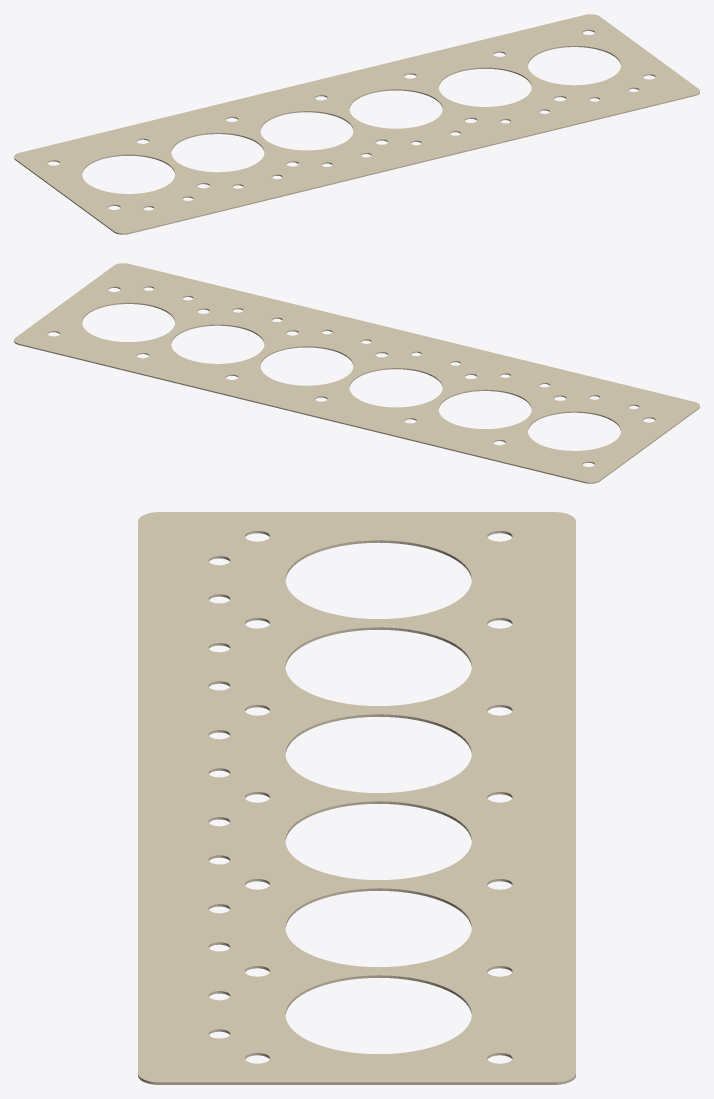
The model's file is head-gasket.glb.
3 renders of one model, top to bottom at view 1: azimuth 30°, elevation 25°; view 2: azimuth 150°, elevation 25°; view 3: azimuth 270°, elevation 25°, orthographic. The views are drawn at different scales.
Visible parts, largest first — view 1: world; view 2: world; view 3: world.
Boxes of the visible parts, x1,y1,x2,y2 form: world: [14, 14, 699, 234]; world: [14, 263, 699, 483]; world: [138, 512, 575, 1084].
Bounding box in the file's own units: 0.746 × 0.0015 × 0.242.
